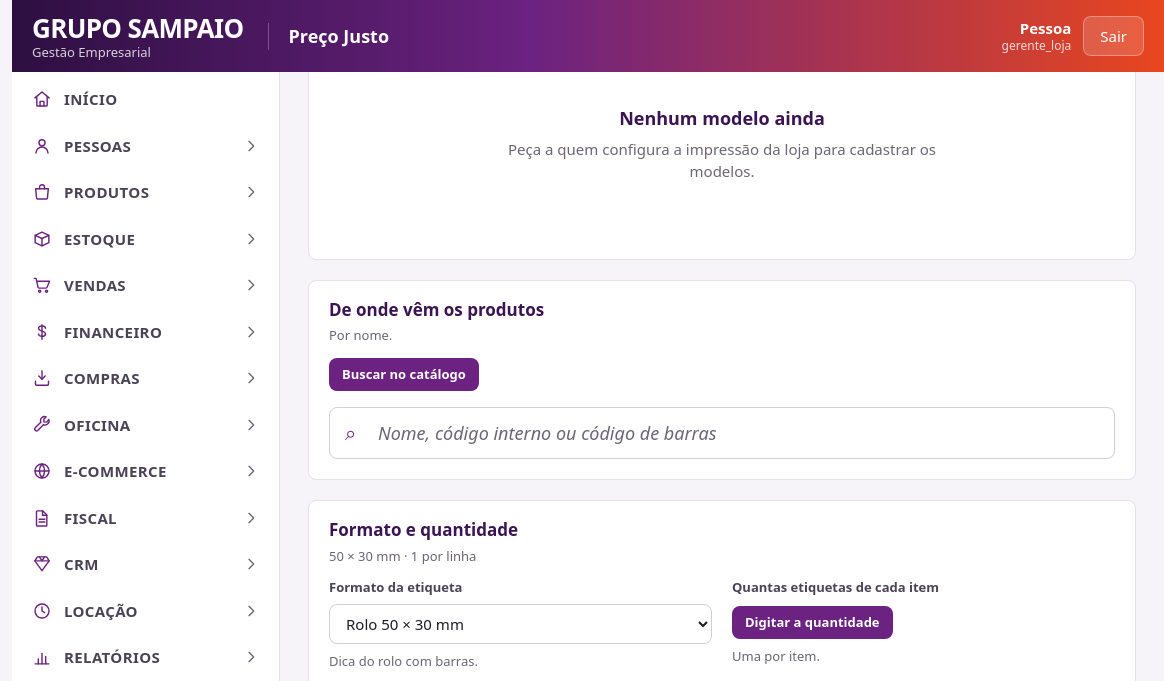
o selo do produto sem código segue a regra do servidor › quem grava código (products.manage) e o formato imprime barras: "gera código ao imprimir" só no produto sem código
(page scrolled)
Expected: the text "Dica do rolo com barras." is shown, [329, 652, 478, 670]
Type "limp" into the field with placeholder "Nome, código interno ou código de barras" at (722, 433), box [329, 407, 1115, 459]
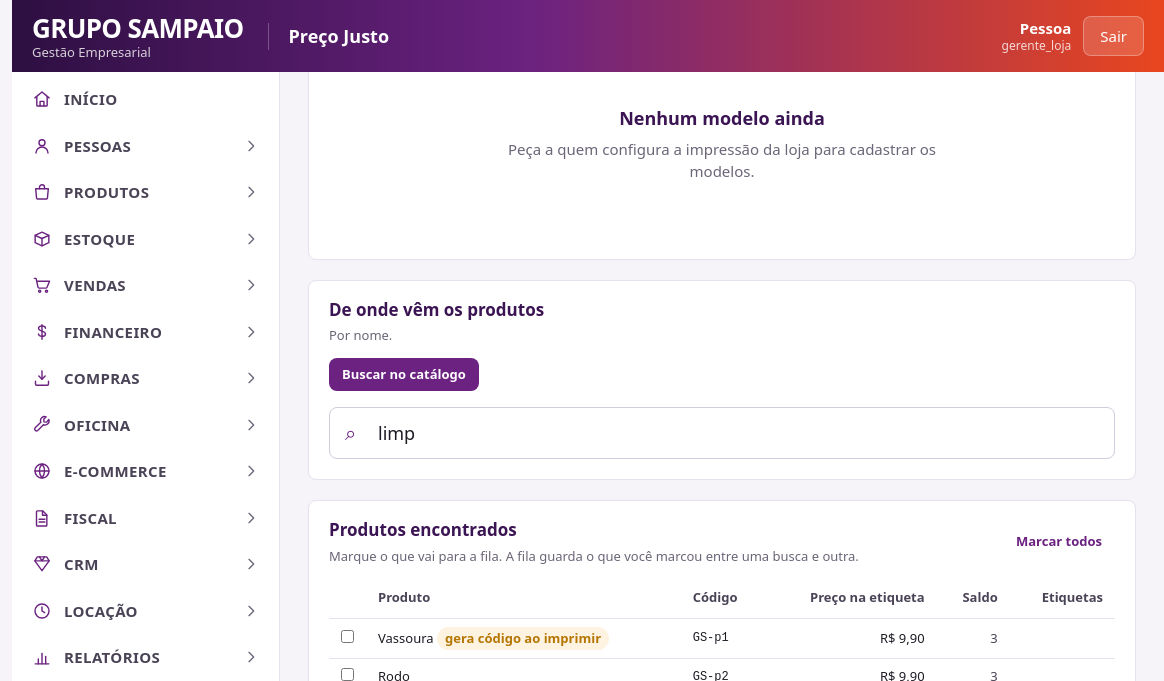
Result: the text "gera código ao imprimir" is shown at [437, 626, 609, 650]
